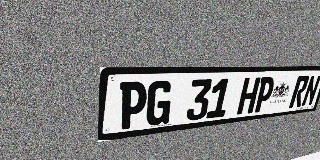1: (206, 78, 232, 119)
3: (186, 79, 213, 121)
G: (145, 80, 174, 127)
H: (236, 77, 261, 115)
N: (301, 75, 320, 107)
P: (118, 81, 148, 130), (253, 77, 276, 113)
R: (288, 76, 310, 108)
